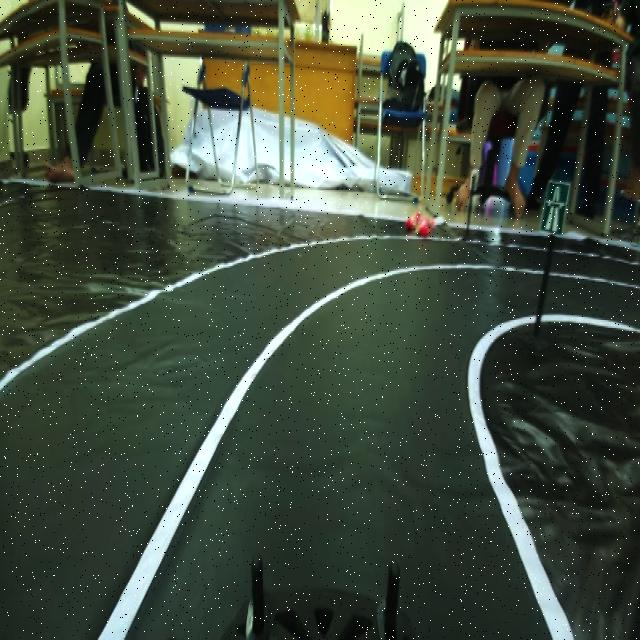highway_entry: (537, 172, 571, 238)
